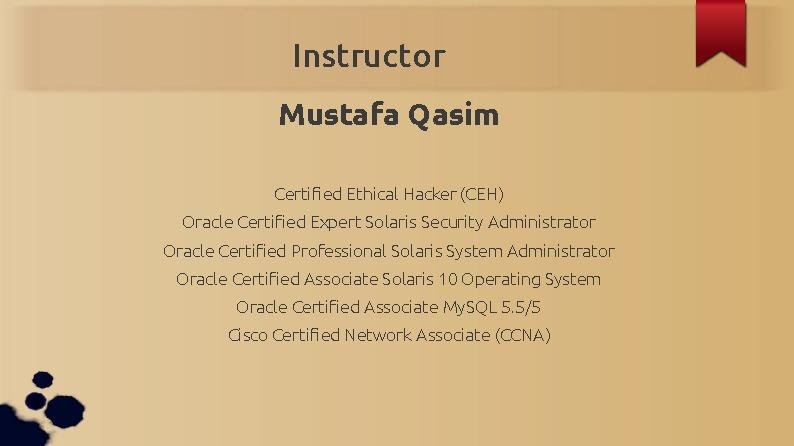paragraph: (121, 179, 681, 364)
title: (255, 35, 552, 156)
